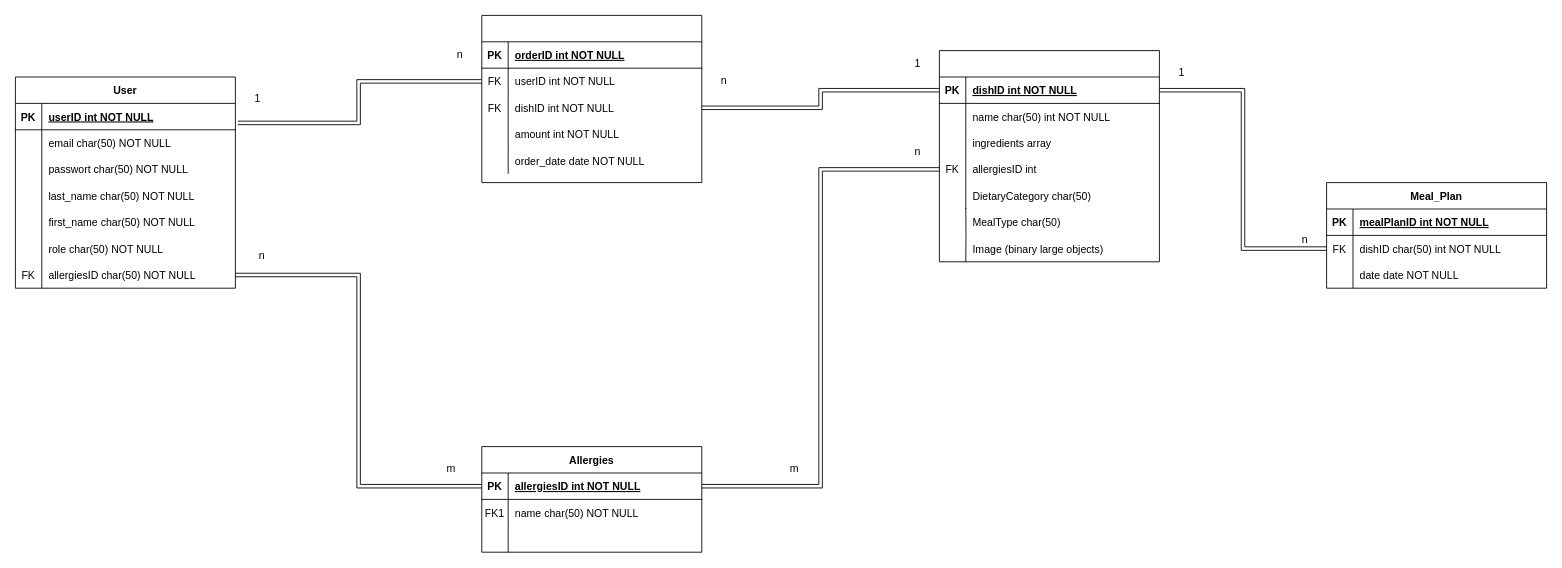
Image size: 1562x568. Some labels were removed from this diagram. The shapes that lost their labels are listed below. From the top down, each one's box as (x1, y1, x2, y2) in pixels, then its label:
(481, 15, 702, 183): Orders
(939, 50, 1159, 262): Dishes
